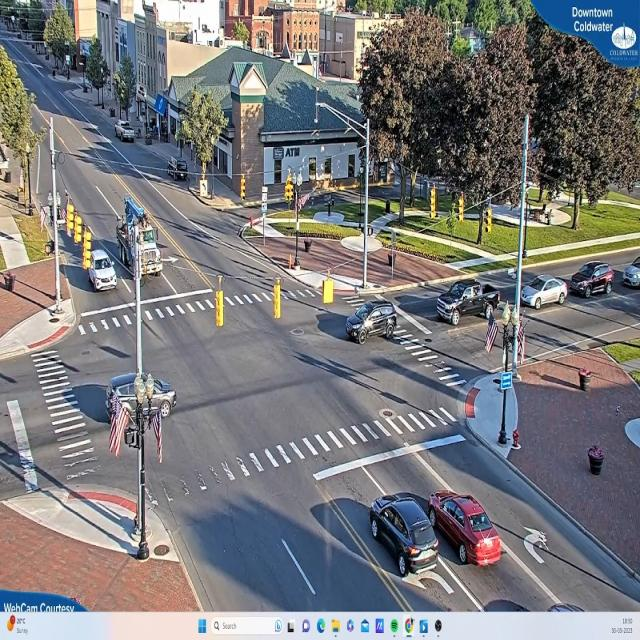car: (426, 491, 506, 568), (369, 493, 442, 577), (104, 376, 178, 427), (491, 273, 567, 311), (436, 283, 498, 325), (346, 301, 398, 342), (569, 262, 615, 301), (522, 275, 570, 308), (622, 259, 640, 289), (166, 158, 188, 180), (117, 122, 137, 144)
